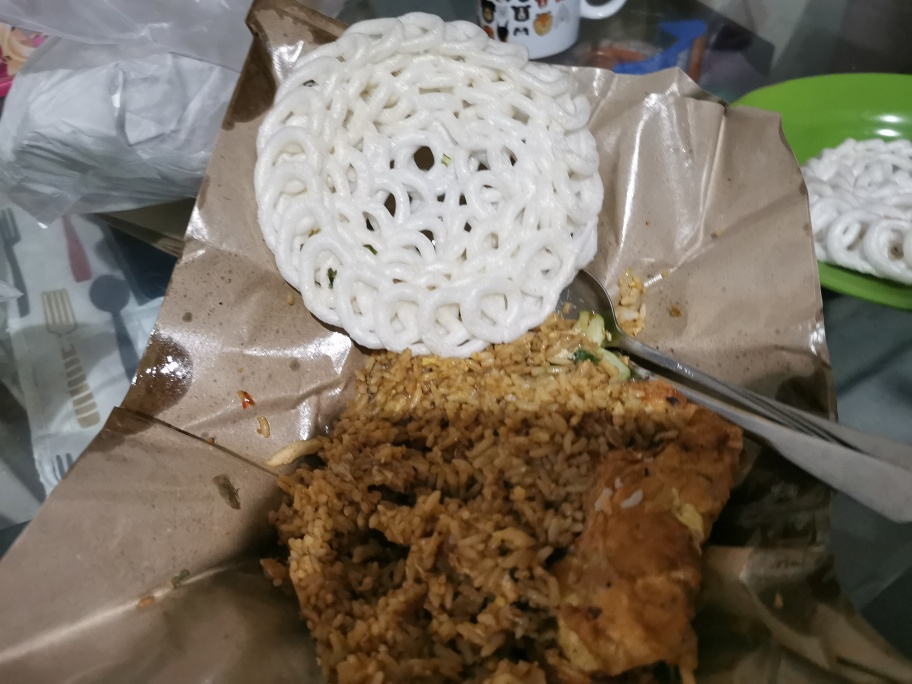kerupuk: (253, 15, 610, 349)
nasi goreng: (286, 348, 751, 684)
